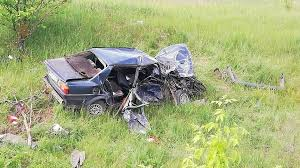car: (47, 32, 219, 126)
